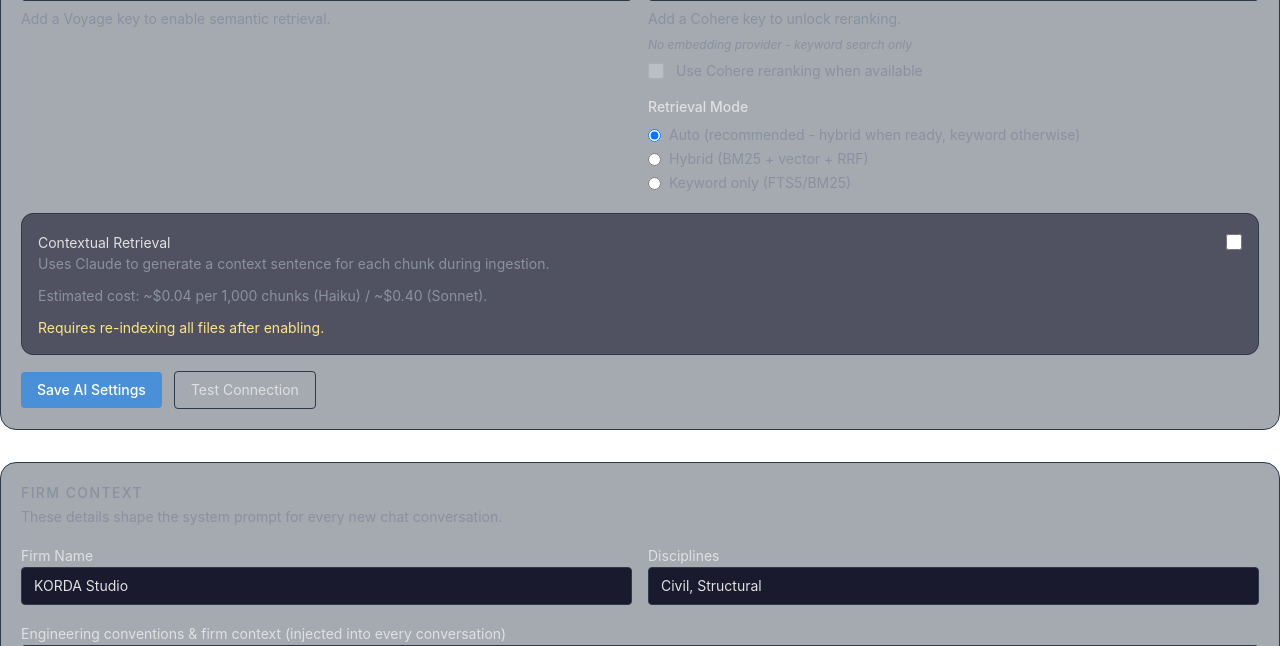
Test: AI settings page › tests the Anthropic connection and shows success feedback
(page scrolled)
Click the button "Test Connection" at (245, 390), box [174,371,316,409]
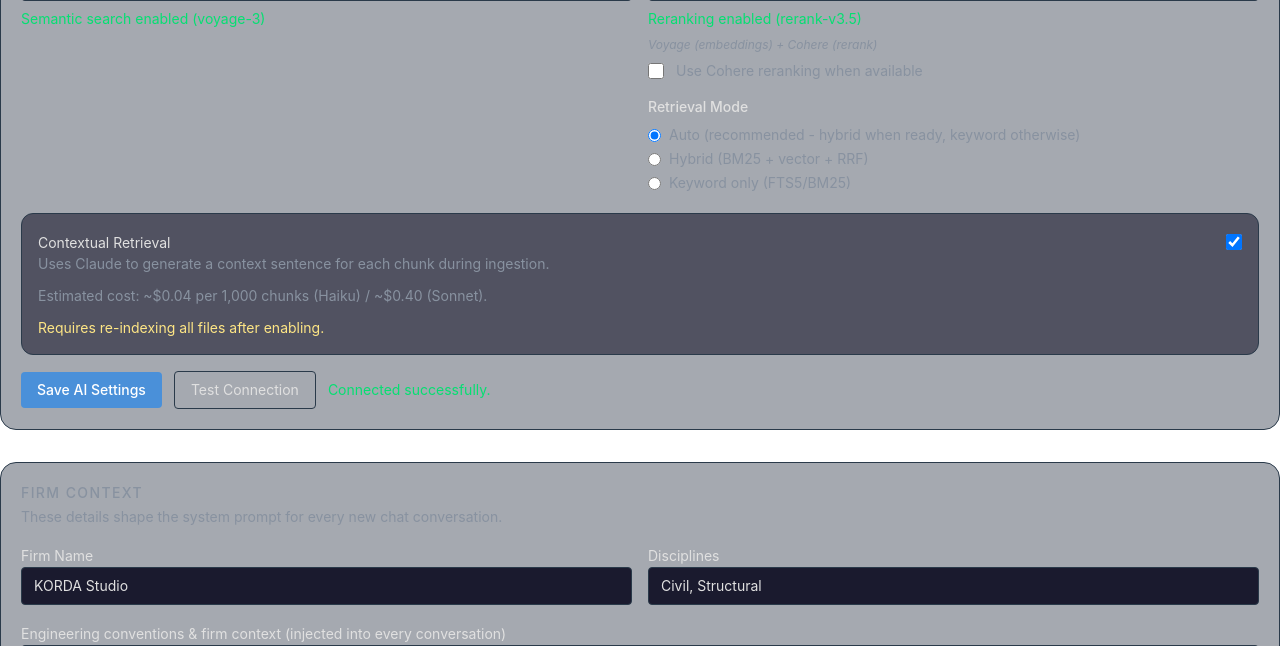
expect the text "Connected successfully." is shown: met, box [328,380,490,400]
